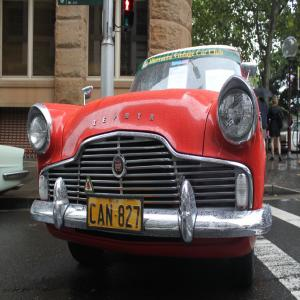Vehicle-registration-plate: (83, 200, 147, 242)
